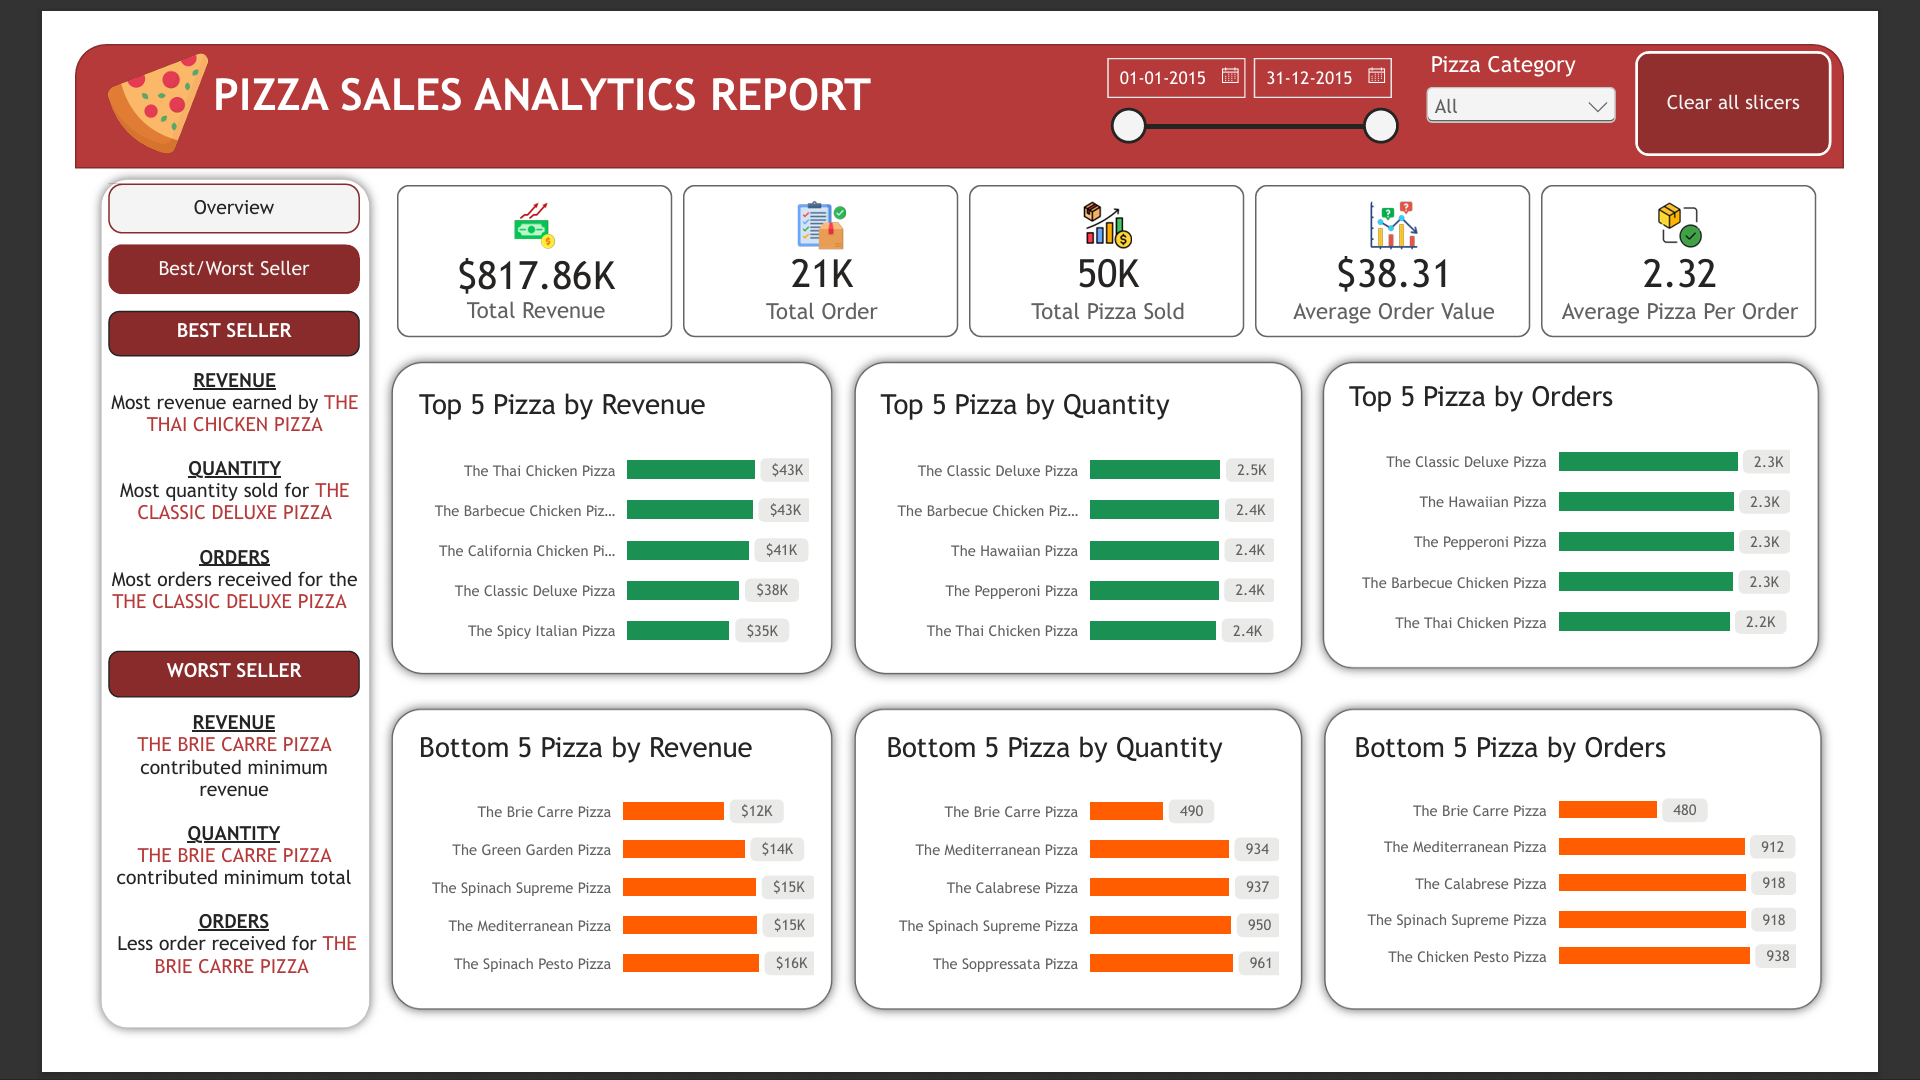

Layout of this report page (visuals, bound fields, positions):
{"tool":"powerbi","page":{"name":"Best/Worst Seller","canvas":[1280,720],"ordinal":1},"visuals":[{"type":"cardVisual","fields":{"Data":["KPI's.Total Revenue","KPI's.Total Order","KPI's.Total Pizza Sold","KPI's.Average Order Value","KPI's.Average Pizza Per Order"]},"box":[220.8,90.5,1050.8,133.9],"z":0},{"type":"shape","box":[0,0,1280,90],"z":1000},{"type":"shape","box":[10.9,90.5,209.9,629.8],"z":2000},{"type":"shape","box":[220.8,472.9,335.4,234],"z":3000},{"type":"shape","box":[556.2,472.9,340.2,234],"z":4000},{"type":"shape","box":[896.4,472.9,375.2,234],"z":5000},{"type":"image","box":[11.2,5,97.5,76.2],"z":6000},{"type":"slicer","fields":{"Values":["pizza_sales.order_date"]},"box":[738.8,5,222.5,80],"z":7000},{"type":"slicer","fields":{"Values":["pizza_sales.pizza_category"]},"box":[972.5,5,147.5,80],"z":8000},{"type":"actionButton","box":[1128.8,5,142.5,76.2],"z":9000},{"type":"textbox","box":[100.1,18.1,600.8,62.7],"z":10000},{"type":"textbox","box":[24.1,193,182.2,32.6],"z":11000},{"type":"textbox","box":[24.1,439.1,182.2,33.8],"z":12000},{"type":"textbox","box":[25.3,235.3,181,203.9],"z":13000},{"type":"textbox","box":[24.1,482.6,182.2,224.4],"z":14000},{"type":"pageNavigator","box":[24.1,101.3,182.2,80.8],"z":15000},{"type":"shape","box":[220.8,222,335.4,242.5],"z":16000},{"type":"shape","box":[555.6,222,340.2,242.5],"z":17000},{"type":"shape","box":[895.2,222,375.2,237.7],"z":18000},{"type":"barChart","title":"Top 5 Pizza by Revenue","fields":{"Category":["pizza_sales.pizza_name"],"Y":["KPI's.Total Revenue"]},"box":[232.8,235.3,313.7,224.4],"z":19000},{"type":"barChart","title":"Top 5 Pizza by Quantity","fields":{"Category":["pizza_sales.pizza_name"],"Y":["KPI's.Total Pizza Sold"]},"box":[567,235.3,316.1,224.4],"z":20000},{"type":"barChart","title":"Top 5 Pizza by Orders","fields":{"Category":["pizza_sales.pizza_name"],"Y":["KPI's.Total Order"]},"box":[906,229.2,351.1,224.4],"z":21000},{"type":"barChart","title":"Bottom 5 Pizza by Revenue","fields":{"Category":["pizza_sales.pizza_name"],"Y":["KPI's.Total Revenue"]},"box":[232.8,482.6,317.3,217.2],"z":22000},{"type":"barChart","title":"Bottom 5 Pizza by Quantity","fields":{"Category":["pizza_sales.pizza_name"],"Y":["KPI's.Total Pizza Sold"]},"box":[570.6,482.6,316.1,217.2],"z":23000},{"type":"barChart","title":"Bottom 5 Pizza by Orders","fields":{"Category":["pizza_sales.pizza_name"],"Y":["KPI's.Total Order"]},"box":[909.7,482.6,351.1,211.1],"z":24000}]}

Visuals, with their boxes in screenshot pixels (x1, y1, x2, y2), scaled from the page's 1280x720 canvas onto the 1920x1080 screenshot:
cardVisual - KPI's.Total Revenue x KPI's.Total Order: {"x1": 331, "y1": 136, "x2": 1907, "y2": 337}
shape: {"x1": 0, "y1": 0, "x2": 1919, "y2": 135}
shape: {"x1": 16, "y1": 136, "x2": 331, "y2": 1079}
shape: {"x1": 331, "y1": 709, "x2": 834, "y2": 1060}
shape: {"x1": 834, "y1": 709, "x2": 1345, "y2": 1060}
shape: {"x1": 1345, "y1": 709, "x2": 1907, "y2": 1060}
image: {"x1": 17, "y1": 8, "x2": 163, "y2": 122}
slicer - pizza_sales.order_date: {"x1": 1108, "y1": 8, "x2": 1442, "y2": 128}
slicer - pizza_sales.pizza_category: {"x1": 1459, "y1": 8, "x2": 1680, "y2": 128}
actionButton: {"x1": 1693, "y1": 8, "x2": 1907, "y2": 122}
textbox: {"x1": 150, "y1": 27, "x2": 1051, "y2": 121}
textbox: {"x1": 36, "y1": 290, "x2": 309, "y2": 338}
textbox: {"x1": 36, "y1": 659, "x2": 309, "y2": 709}
textbox: {"x1": 38, "y1": 353, "x2": 309, "y2": 659}
textbox: {"x1": 36, "y1": 724, "x2": 309, "y2": 1060}
pageNavigator: {"x1": 36, "y1": 152, "x2": 309, "y2": 273}
shape: {"x1": 331, "y1": 333, "x2": 834, "y2": 697}
shape: {"x1": 833, "y1": 333, "x2": 1344, "y2": 697}
shape: {"x1": 1343, "y1": 333, "x2": 1906, "y2": 690}
"Top 5 Pizza by Revenue" barChart: {"x1": 349, "y1": 353, "x2": 820, "y2": 690}
"Top 5 Pizza by Quantity" barChart: {"x1": 850, "y1": 353, "x2": 1325, "y2": 690}
"Top 5 Pizza by Orders" barChart: {"x1": 1359, "y1": 344, "x2": 1886, "y2": 680}
"Bottom 5 Pizza by Revenue" barChart: {"x1": 349, "y1": 724, "x2": 825, "y2": 1050}
"Bottom 5 Pizza by Quantity" barChart: {"x1": 856, "y1": 724, "x2": 1330, "y2": 1050}
"Bottom 5 Pizza by Orders" barChart: {"x1": 1365, "y1": 724, "x2": 1891, "y2": 1041}
